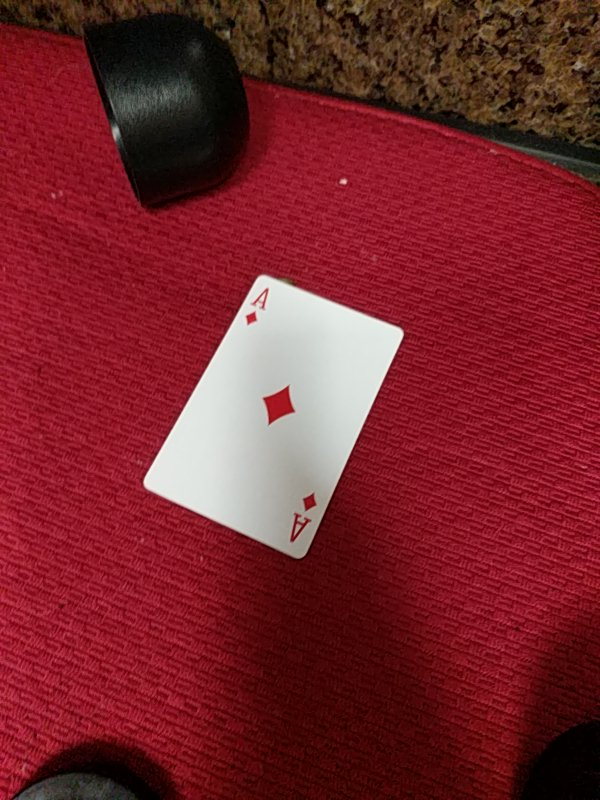Diamonds: (143, 272, 412, 561)
